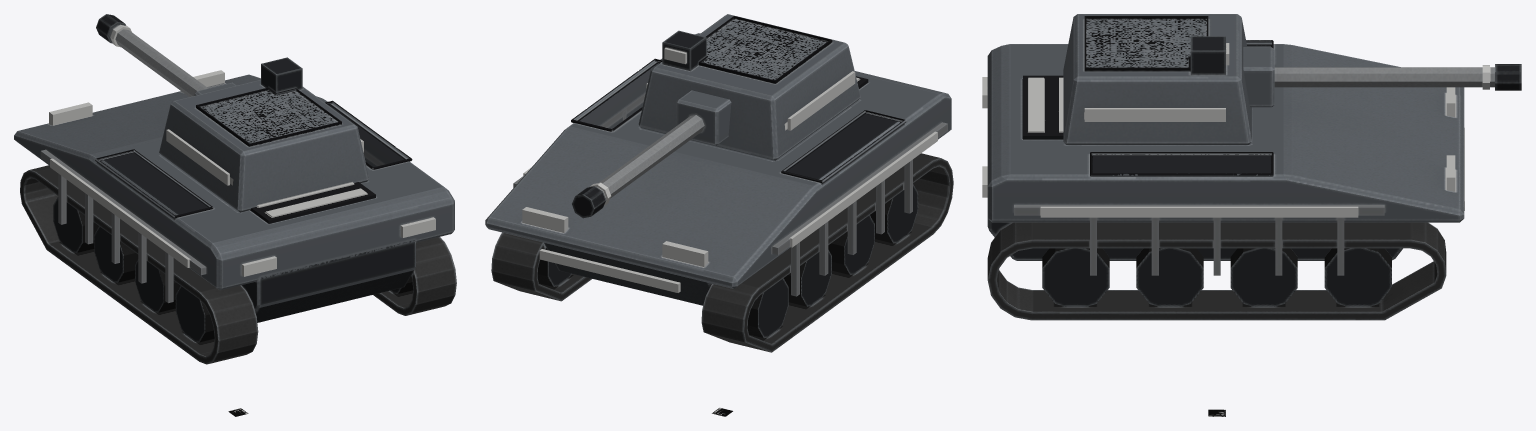
Rendered from chs_locust.fbx.
3 renders of one model, left to right at view 1: azimuth 30°, elevation 25°; view 2: azimuth 150°, elevation 25°; view 3: azimuth 270°, elevation 25°, orthographic. The views are drawn at different scales.
Parts seen in each view (by area): view 1: base_bar, turret_bar, base_glow_running_bar, barrel_bar, base_glow_head_bar, turret_glow_running_bar; view 2: base_bar, turret_bar, barrel_bar, base_glow_running_bar, base_glow_head_bar, turret_glow_running_bar; view 3: base_bar, turret_bar, barrel_bar, base_glow_running_bar, turret_glow_running_bar, base_glow_head_bar.
Part boxes in pixels (left/top/right/bottom): base_bar: left=14, top=74, right=456, bottom=364; turret_bar: left=159, top=57, right=368, bottom=212; base_glow_running_bar: left=50, top=158, right=435, bottom=276; barrel_bar: left=96, top=14, right=236, bottom=96; base_glow_head_bar: left=49, top=70, right=224, bottom=125; turret_glow_running_bar: left=166, top=129, right=363, bottom=185; base_bar: left=485, top=33, right=953, bottom=352; turret_bar: left=638, top=14, right=860, bottom=160; barrel_bar: left=572, top=90, right=731, bottom=218; base_glow_running_bar: left=523, top=77, right=937, bottom=292; base_glow_head_bar: left=522, top=207, right=708, bottom=266; turret_glow_running_bar: left=646, top=48, right=855, bottom=130; base_bar: left=987, top=40, right=1464, bottom=320; turret_bar: left=1063, top=14, right=1251, bottom=144; barrel_bar: left=1243, top=47, right=1521, bottom=107; base_glow_running_bar: left=982, top=77, right=1464, bottom=217; turret_glow_running_bar: left=1084, top=43, right=1229, bottom=121; base_glow_head_bar: left=1446, top=87, right=1455, bottom=191.
Size of the model in its own units: 384 by 490 by 611.
2 materials, 2 textured.
